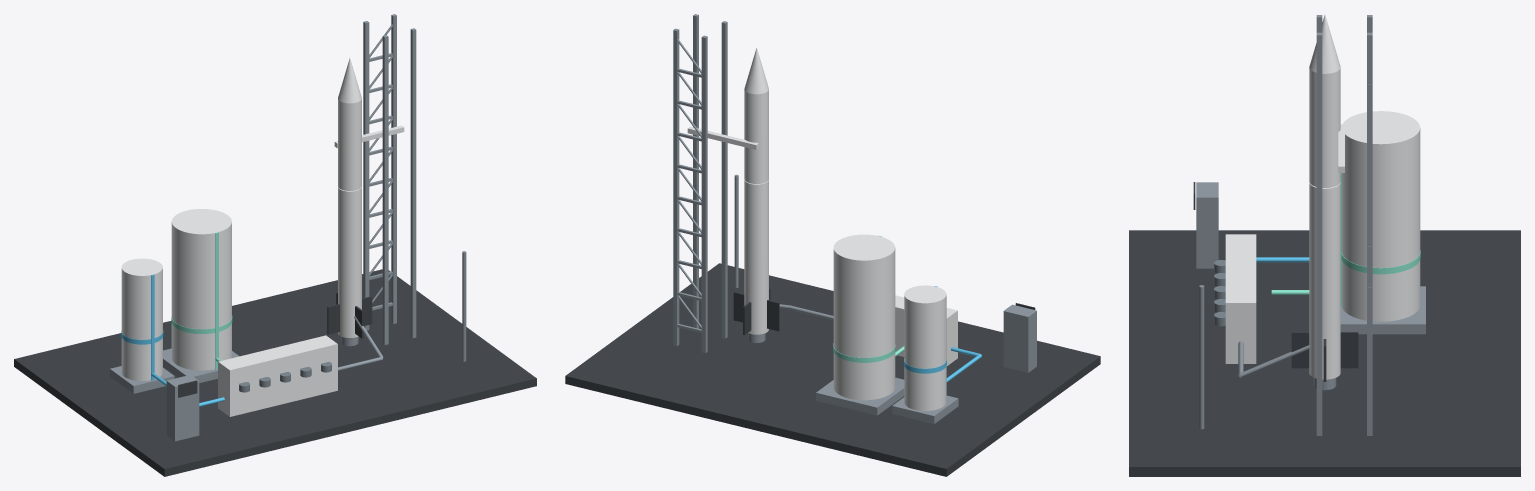
Rendered from gse-site.glb.
The picture shows the model from 3 angles, left to right: view 1: azimuth 30°, elevation 25°; view 2: azimuth 150°, elevation 25°; view 3: azimuth 270°, elevation 25°; orthographic projection. The views are drawn at different scales.
Visible parts, largest first — view 1: pad, nitrous vessel, tower upright (×4), fill manifold, nitrogen vessel, airframe-lower, airframe-upper, control pedestal, nitrogen vessel foot, nitrous vessel foot, nose, vent riser; view 2: pad, nitrous vessel, tower upright (×4), nitrogen vessel, airframe-lower, airframe-upper, control pedestal, nitrous vessel foot, fill manifold, nitrogen vessel foot, nose, vent riser; view 3: pad, nitrous vessel, tower upright (×2), airframe-lower, fill manifold, airframe-upper, control pedestal, nitrous vessel foot, fin (×2), vent riser, nose, nitrous vessel band.
Boxes of the visible parts, x1,y1,x2,y2 form: pad: (14, 269, 536, 476); nitrous vessel: (171, 209, 231, 370); tower upright (×4): (363, 14, 416, 344); fill manifold: (218, 335, 337, 416); nitrogen vessel: (121, 258, 162, 381); airframe-lower: (338, 194, 361, 337); airframe-upper: (338, 99, 361, 190); control pedestal: (166, 375, 199, 441); nitrogen vessel foot: (110, 366, 174, 393); nitrous vessel foot: (163, 348, 239, 382); nose: (338, 58, 361, 103); vent riser: (462, 251, 466, 361); pad: (565, 263, 1100, 476); nitrous vessel: (833, 234, 895, 400); tower upright (×4): (673, 14, 727, 353); nitrogen vessel: (904, 285, 946, 410); airframe-lower: (744, 187, 768, 334); airframe-upper: (744, 90, 768, 183); control pedestal: (1003, 304, 1036, 372); nitrous vessel foot: (816, 377, 904, 415); fill manifold: (895, 295, 957, 366); nitrogen vessel foot: (892, 395, 958, 423); nose: (744, 48, 768, 94); vent riser: (734, 174, 738, 287); pad: (1129, 230, 1520, 476); nitrous vessel: (1342, 111, 1420, 321); tower upright (×2): (1316, 32, 1372, 435); airframe-lower: (1309, 191, 1340, 379); fill manifold: (1225, 234, 1256, 363); airframe-upper: (1309, 68, 1340, 187); control pedestal: (1196, 182, 1218, 268); nitrous vessel foot: (1340, 286, 1425, 334); fin (×2): (1291, 332, 1358, 368); vent riser: (1199, 285, 1204, 429); nose: (1309, 15, 1340, 73); nitrous vessel band: (1341, 251, 1420, 274).
Bounding box in the file's own units: 10 × 8.1 × 7.
